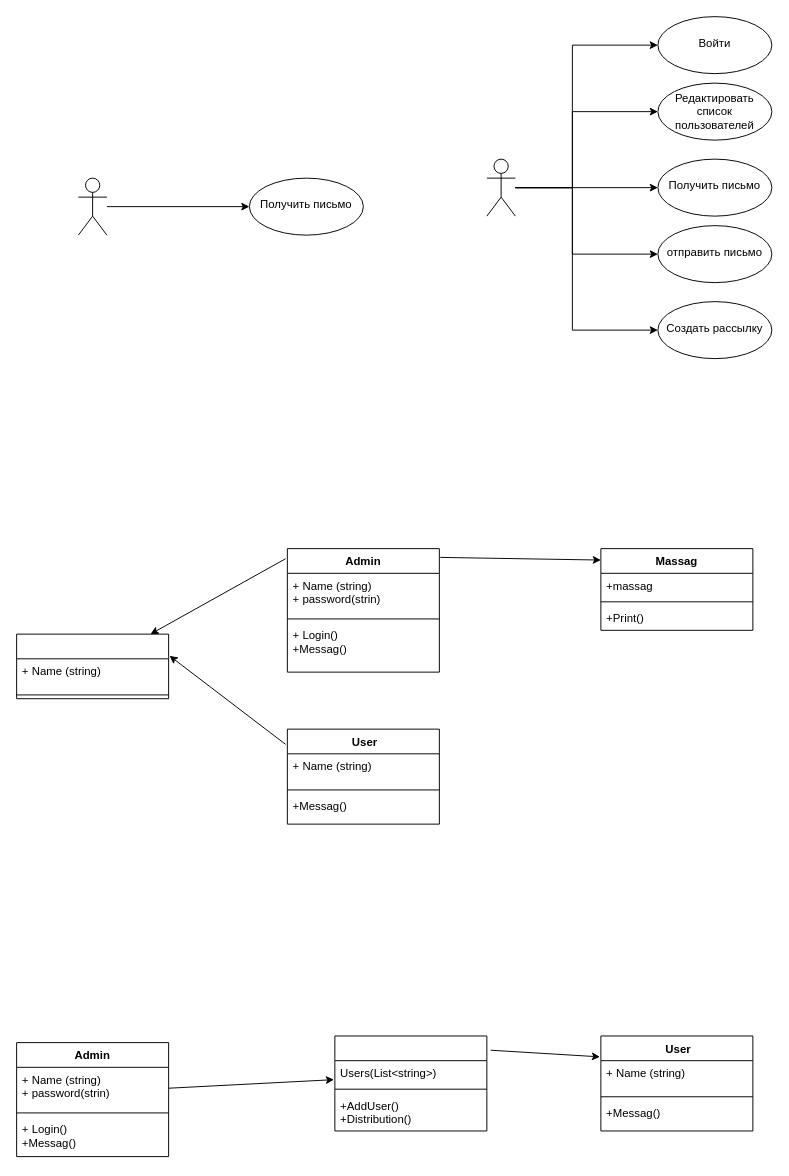
Image size: 789x1176. Some labels were removed from this diagram. The box of each missing label's shape, as (x1, y1, x2, y2) in pixels:
Creator: (16, 633, 169, 699)
Server: (334, 1035, 487, 1131)
Администратор: (486, 158, 515, 216)
Пользователь: (77, 177, 107, 235)
